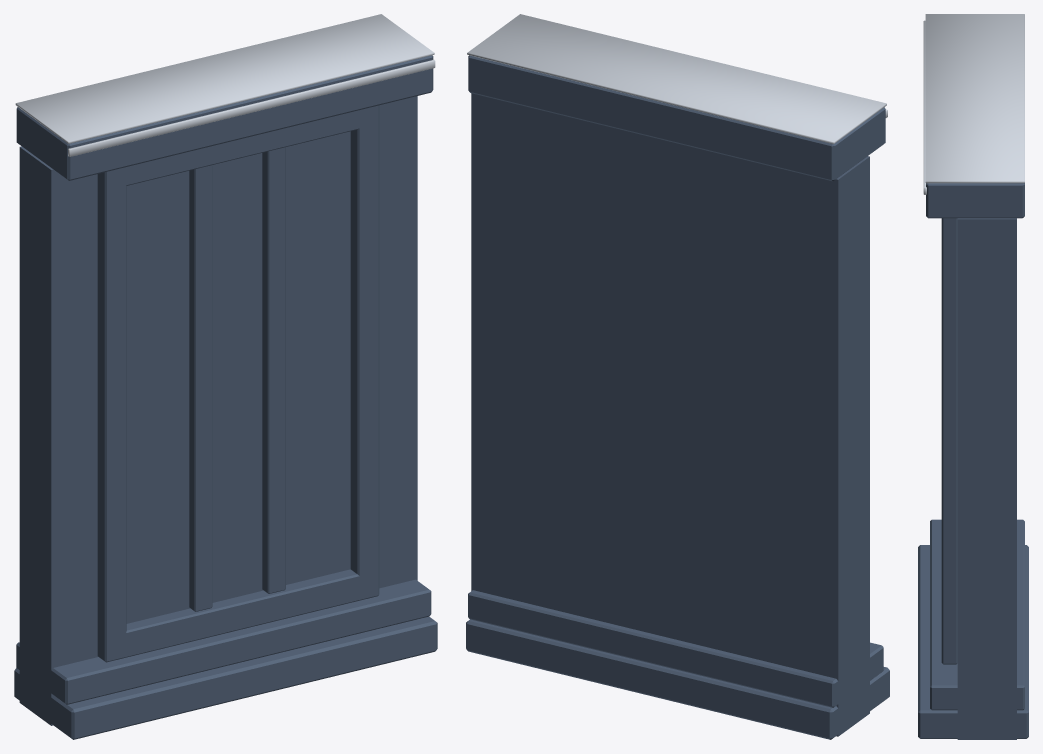
Rendered from Rempart_P1_Travee.fbx.
3 renders of one model, left to right at view 1: azimuth 30°, elevation 25°; view 2: azimuth 150°, elevation 25°; view 3: azimuth 270°, elevation 25°, orthographic. The views are drawn at different scales.
Parts seen in each view (by area): view 1: P1_Travee_Pierre, P1_Travee_Argent; view 2: P1_Travee_Pierre, P1_Travee_Argent; view 3: P1_Travee_Pierre, P1_Travee_Argent.
Part boxes in pixels (x1,y1,x2,y2): P1_Travee_Pierre: (14, 55, 437, 739); P1_Travee_Argent: (15, 14, 435, 156); P1_Travee_Pierre: (466, 55, 889, 739); P1_Travee_Argent: (467, 14, 887, 144); P1_Travee_Pierre: (918, 183, 1028, 739); P1_Travee_Argent: (923, 14, 1024, 194).
Size of the model in its own units: 20 by 31.12 by 5.6.
